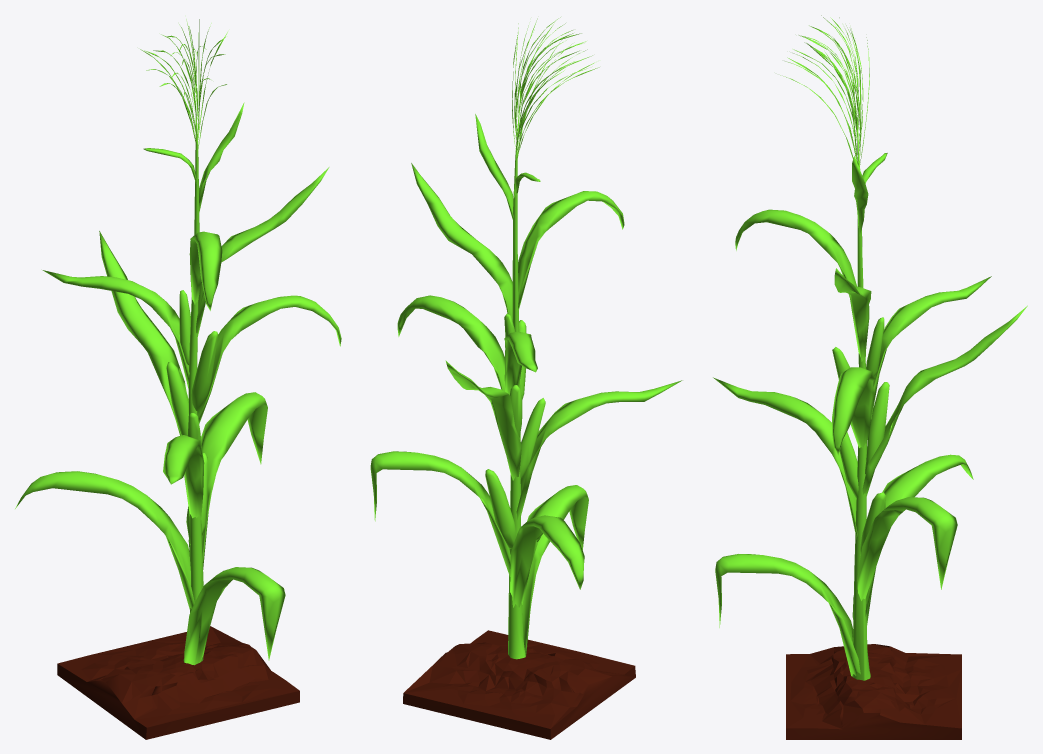
File: bedeng_jagung_1.obj
3 renders of one model, left to right at view 1: azimuth 30°, elevation 25°; view 2: azimuth 150°, elevation 25°; view 3: azimuth 270°, elevation 25°, orthographic. The views are drawn at different scales.
Parts seen in each view (by area): view 1: Tanaman_Jagung.001, PP_Meadow_Path_05_Scene.1042; view 2: Tanaman_Jagung.001, PP_Meadow_Path_05_Scene.1042; view 3: Tanaman_Jagung.001, PP_Meadow_Path_05_Scene.1042.
Boxes of the visible parts, <box> form: Tanaman_Jagung.001: <box>15,19,341,665</box>; PP_Meadow_Path_05_Scene.1042: <box>57,626,299,739</box>; Tanaman_Jagung.001: <box>370,17,682,659</box>; PP_Meadow_Path_05_Scene.1042: <box>403,630,635,739</box>; Tanaman_Jagung.001: <box>713,15,1027,680</box>; PP_Meadow_Path_05_Scene.1042: <box>786,644,961,739</box>.
Bounding box in the file's own units: 1.68 × 4.26 × 1.8.
